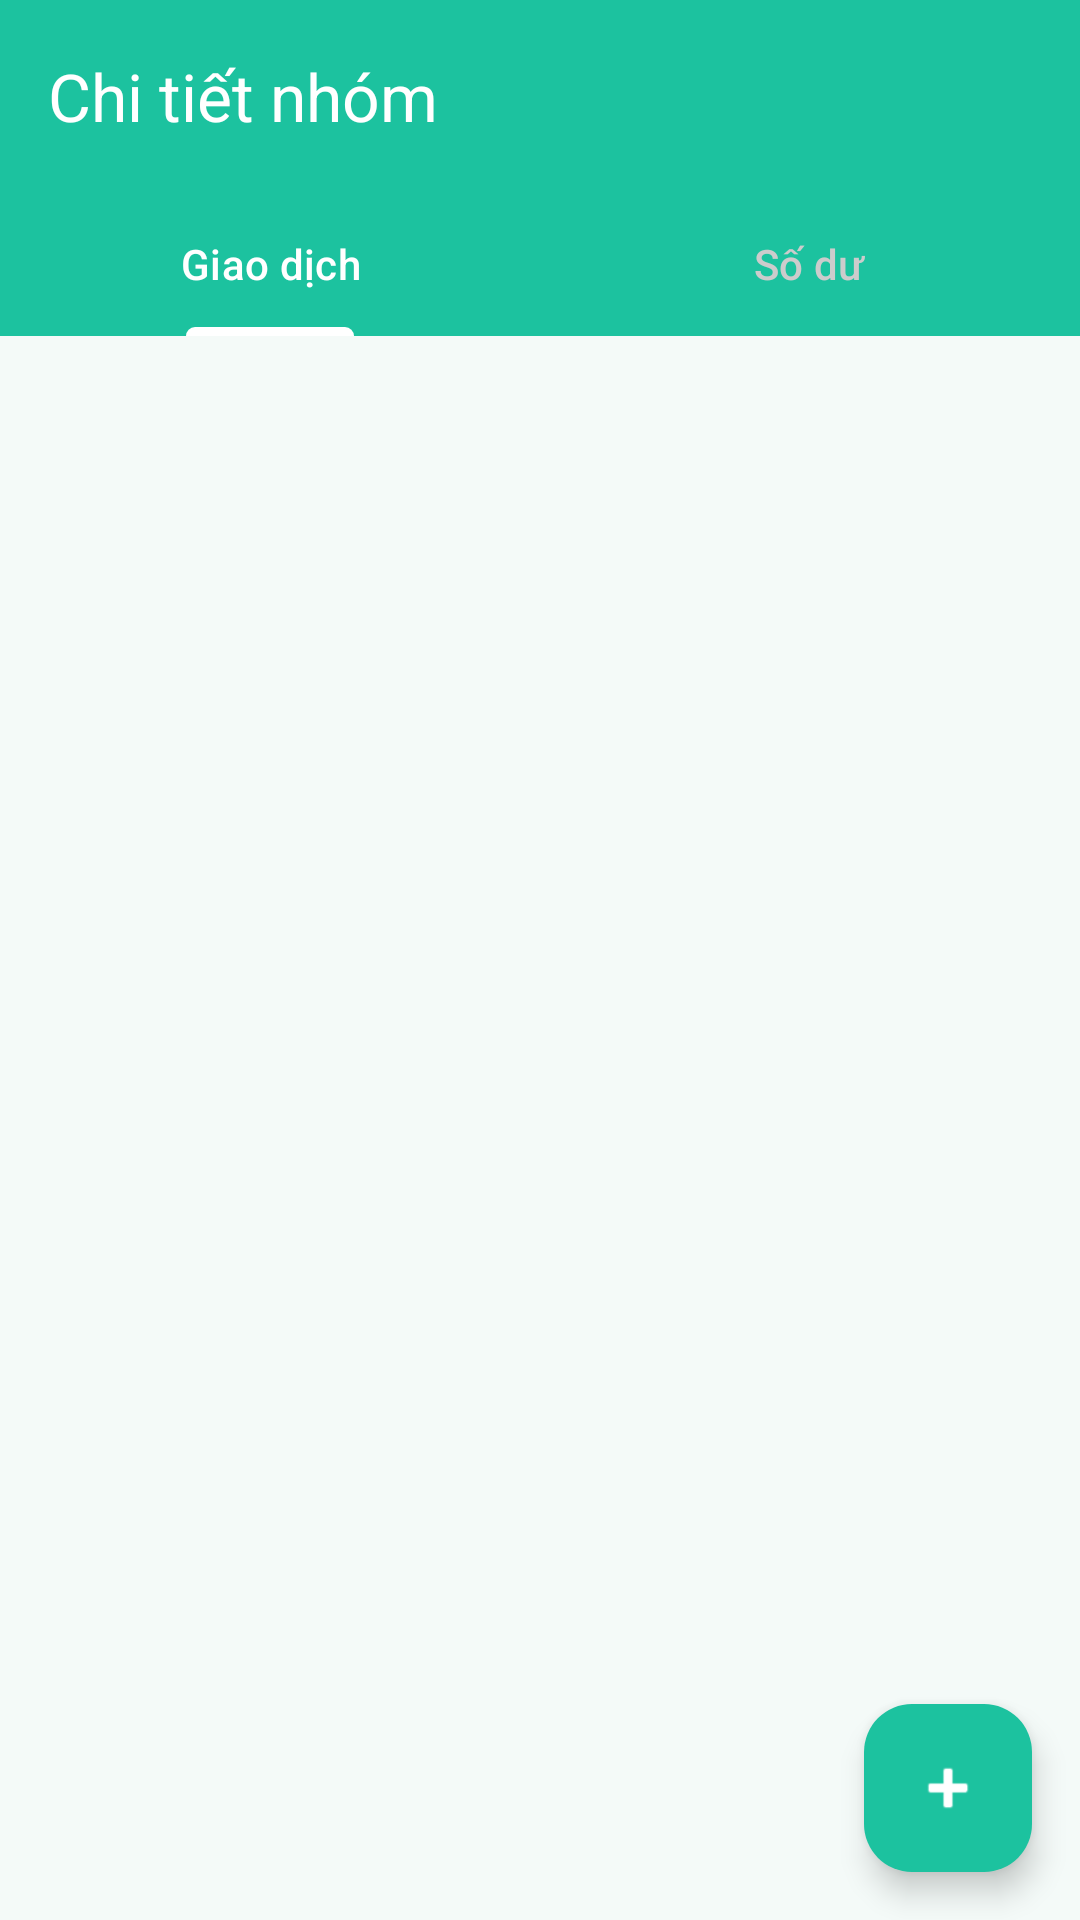

Named icons in this screenshot (1080w x 1920h) and their centers, point (x, y):
Thêm chi tiêu mới: point (948, 1788)
